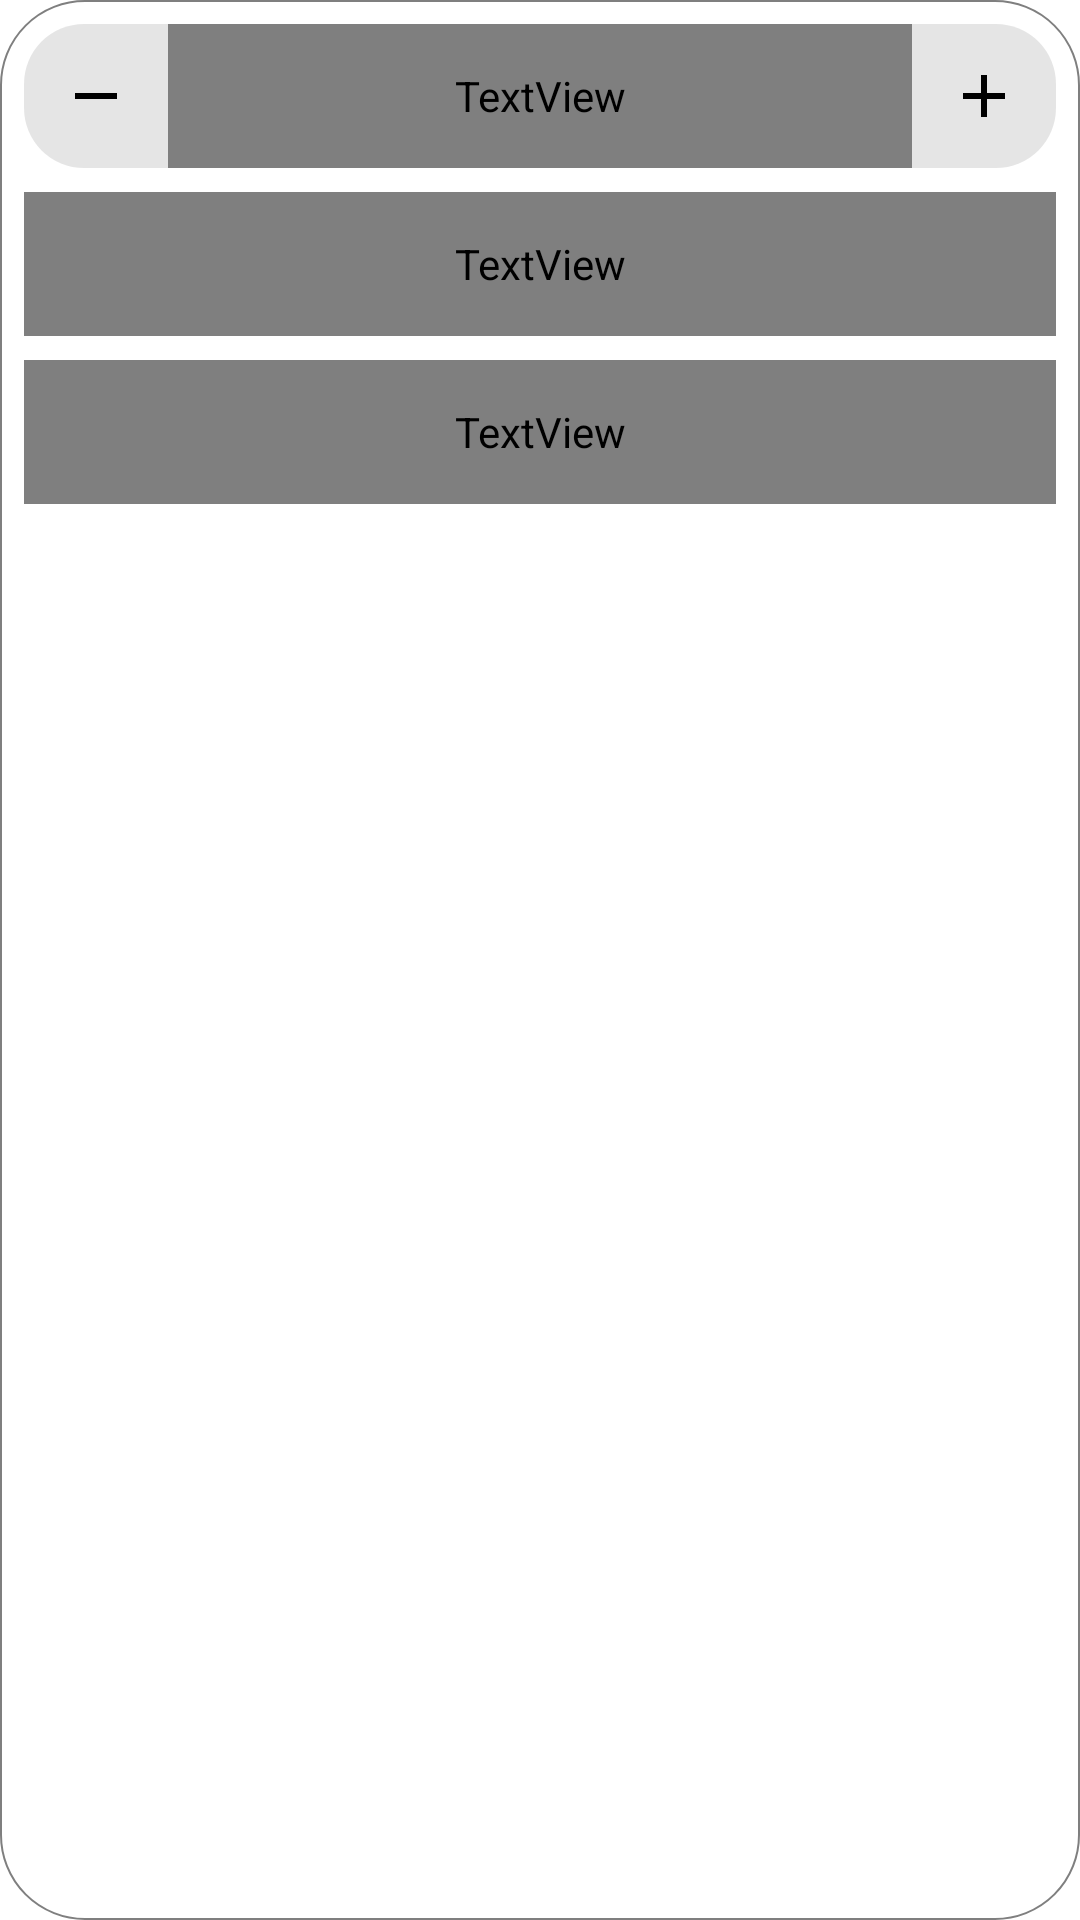

Point at icon controls on the screen. Image size 1080px x 1920px, points as point (x, y).
Show fewer tiles across: point (96, 96)
Show more tiles across: point (984, 96)
